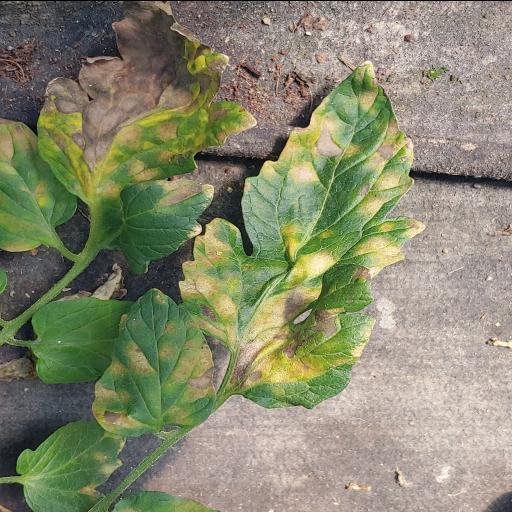disease_tomato: (178, 58, 424, 408), (36, 0, 256, 202), (90, 286, 218, 434), (0, 106, 76, 254), (15, 416, 129, 512)
